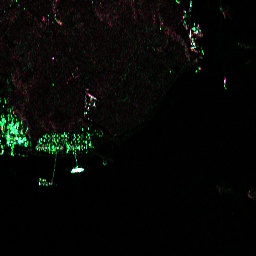ship: (69, 165, 85, 175)
